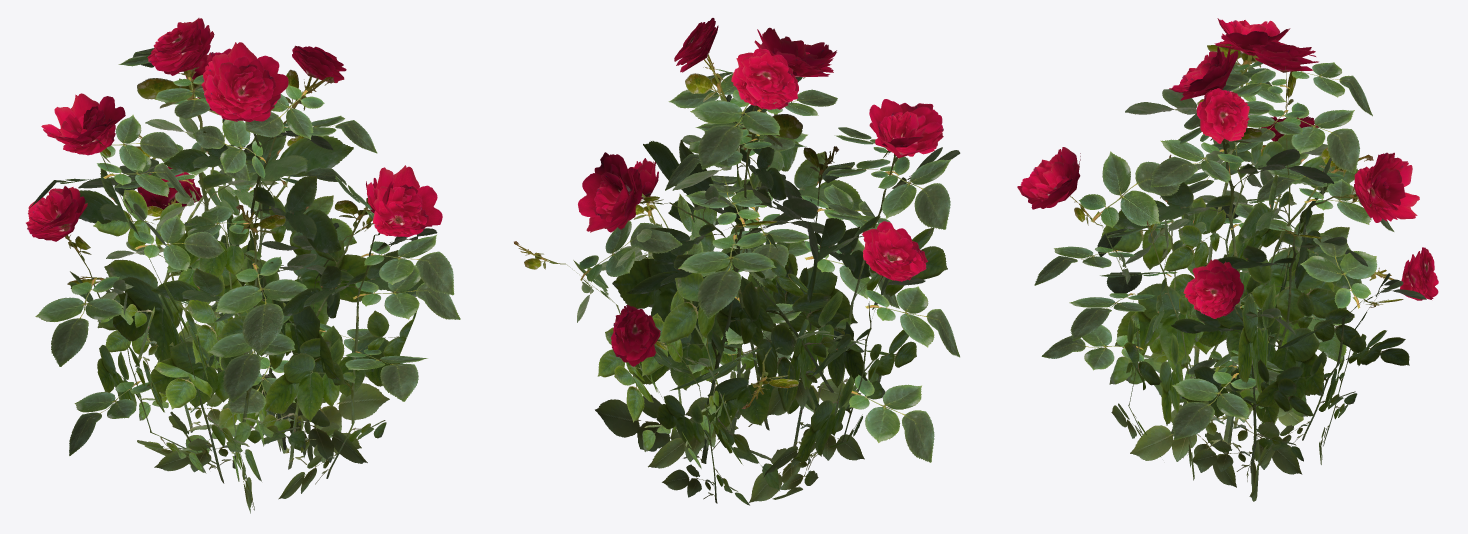
Rendered from Rose_Red.fbx.
The picture shows the model from 3 angles, left to right: view 1: azimuth 30°, elevation 25°; view 2: azimuth 150°, elevation 25°; view 3: azimuth 270°, elevation 25°; orthographic projection. The views are drawn at different scales.
Visible parts, largest first — view 1: Rose_Red; view 2: Rose_Red; view 3: Rose_Red.
Part boxes in pixels (x1,y1,x2,y2): Rose_Red: (26, 18, 460, 513); Rose_Red: (514, 18, 960, 505); Rose_Red: (1017, 18, 1438, 501).
Bounding box in the file's own units: 4.47 × 5.3 × 4.77.
